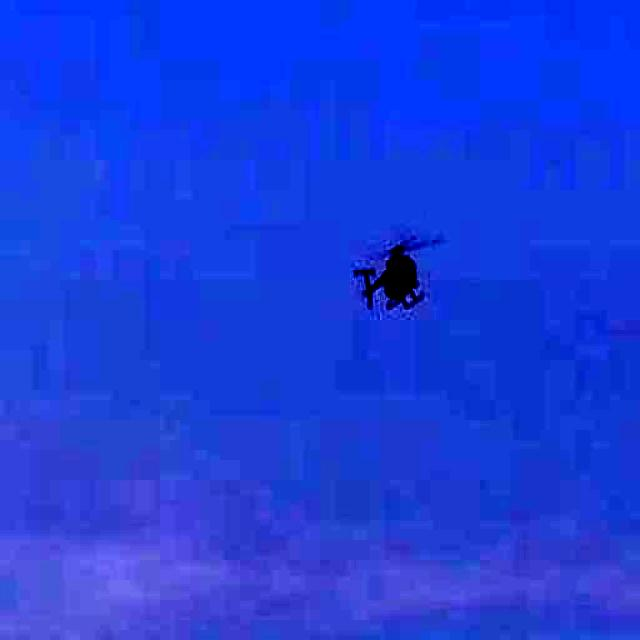drone: (331, 211, 458, 338)
